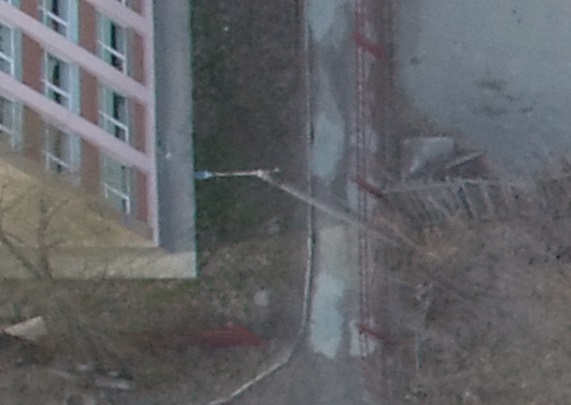opora: (191, 163, 405, 254)
